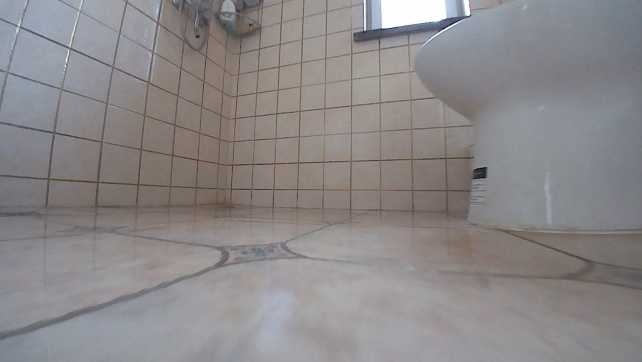toilet: (412, 0, 641, 232)
